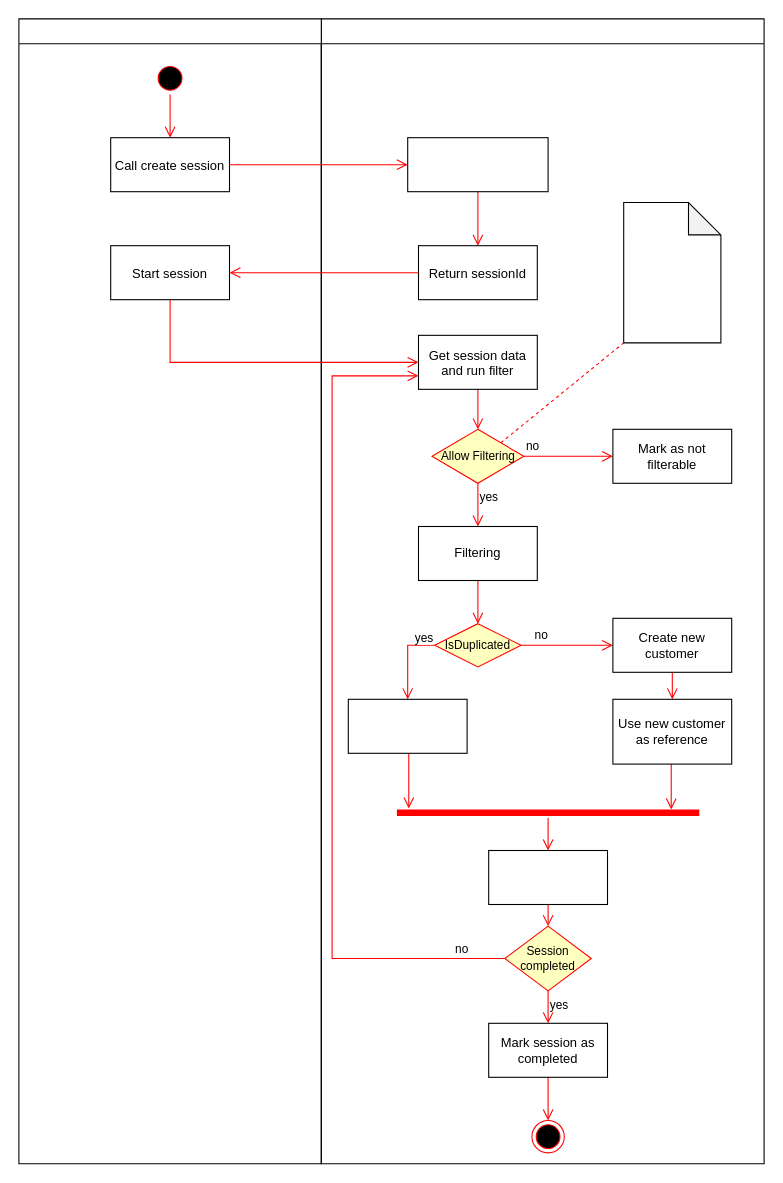
The diagram is 783 pixels wide and 1183 high, and some of its shapes have lost their labels. Each missing label, with the box of its shape:
At least one filter condition met requirement (comparing data not null): (623, 201, 721, 343)
Create PipelineSession and store session data: (407, 137, 548, 192)
DuplicateFilterService: (320, 18, 764, 1164)
OtherService: (18, 18, 321, 1164)
Report progress: (488, 849, 608, 905)
Use existed customer as reference: (347, 698, 467, 753)
